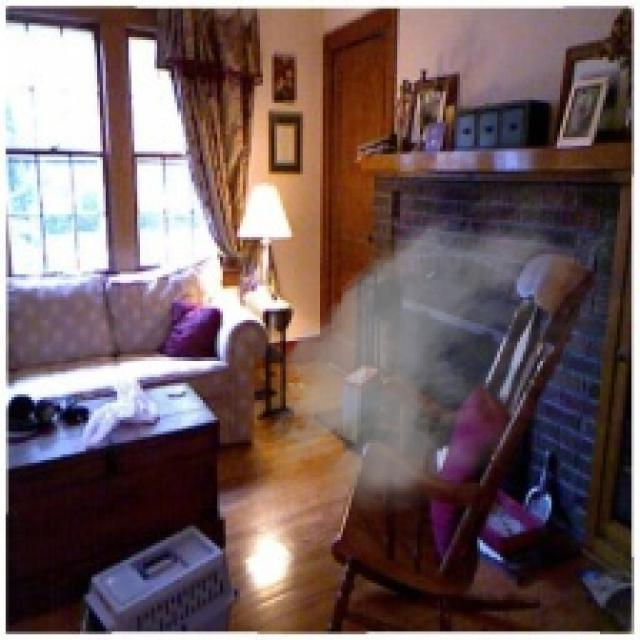Smoke: (257, 177, 626, 532)
